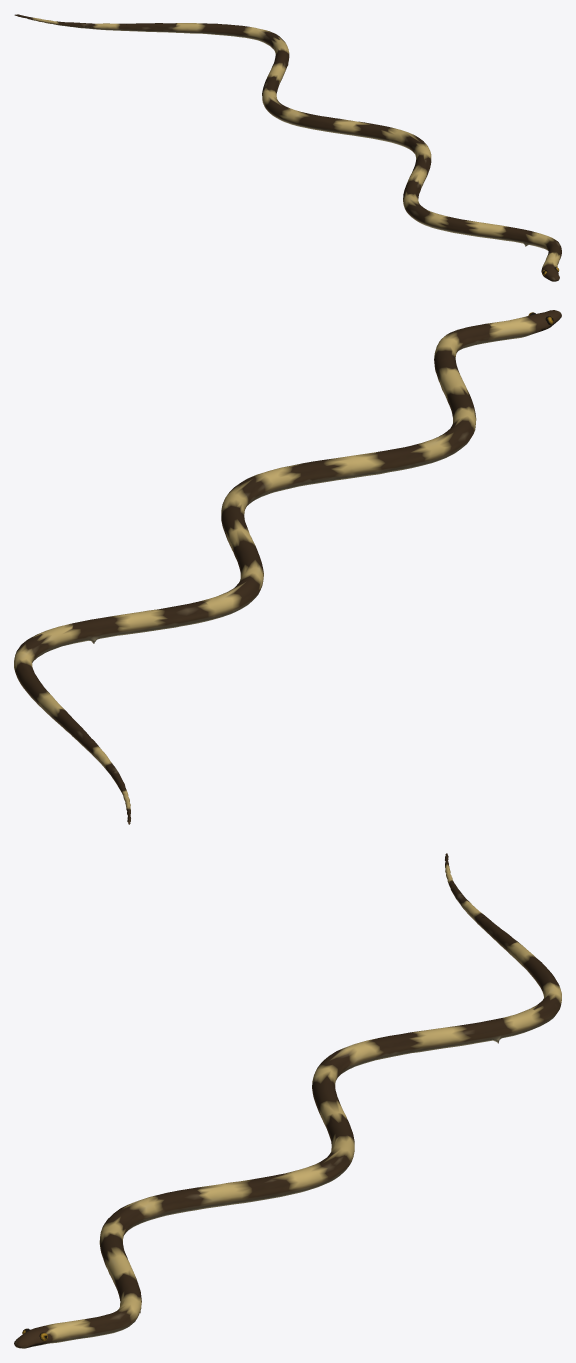
The model's file is Phlegethontia.fbx.
3 renders of one model, top to bottom at view 1: azimuth 30°, elevation 25°; view 2: azimuth 150°, elevation 25°; view 3: azimuth 330°, elevation 25°, orthographic. The views are drawn at different scales.
Visible parts, largest first — view 1: Phlegethontia; view 2: Phlegethontia; view 3: Phlegethontia.
Boxes of the visible parts, x1,y1,x2,y2 form: Phlegethontia: [14, 14, 561, 281]; Phlegethontia: [14, 310, 561, 824]; Phlegethontia: [14, 853, 561, 1348].
Bounding box in the file's own units: 0.3458 × 0.0273 × 1.47.
